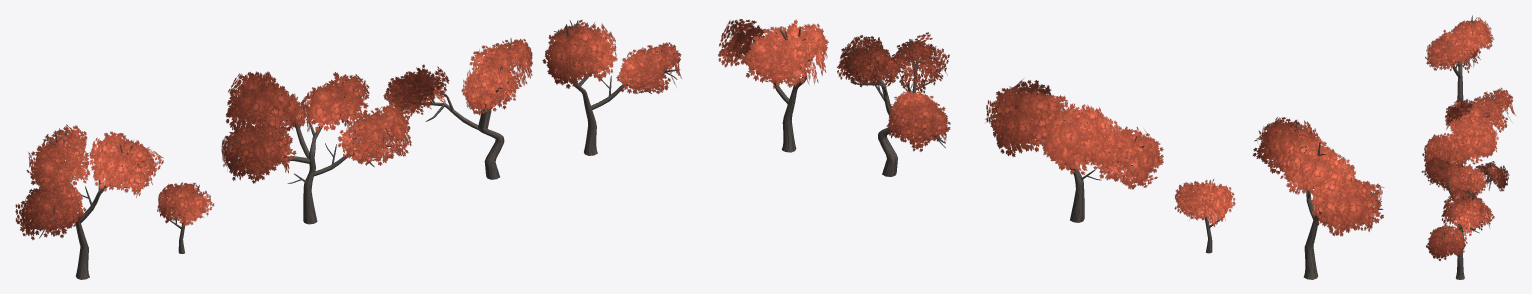
Rendered from Maple.glb.
The picture shows the model from 3 angles, left to right: view 1: azimuth 30°, elevation 25°; view 2: azimuth 150°, elevation 25°; view 3: azimuth 270°, elevation 25°; orthographic projection. The views are drawn at different scales.
Visible parts, largest first — view 1: MapleTree_3, MapleTree_5, MapleTree_2, MapleTree_1, MapleTree_4; view 2: MapleTree_3, MapleTree_5, MapleTree_2, MapleTree_1, MapleTree_4; view 3: MapleTree_3, MapleTree_1, MapleTree_5, MapleTree_2, MapleTree_4.
Part boxes in pixels (x1,y1,x2,y2): MapleTree_3: (221,71,411,224); MapleTree_5: (15,124,163,279); MapleTree_2: (383,38,532,179); MapleTree_1: (542,19,681,155); MapleTree_4: (157,182,214,253); MapleTree_3: (985,79,1163,222); MapleTree_5: (1253,117,1384,279); MapleTree_2: (837,32,950,176); MapleTree_1: (718,19,828,152); MapleTree_4: (1174,179,1235,253); MapleTree_3: (1422,87,1515,175); MapleTree_1: (1426,188,1494,279); MapleTree_5: (1425,15,1494,105); MapleTree_2: (1421,157,1509,246); MapleTree_4: (1445,99,1469,131).
Size of the model in its own units: 34.21 by 7.29 by 6.68.
Materials: 2 (2 with a texture image).
